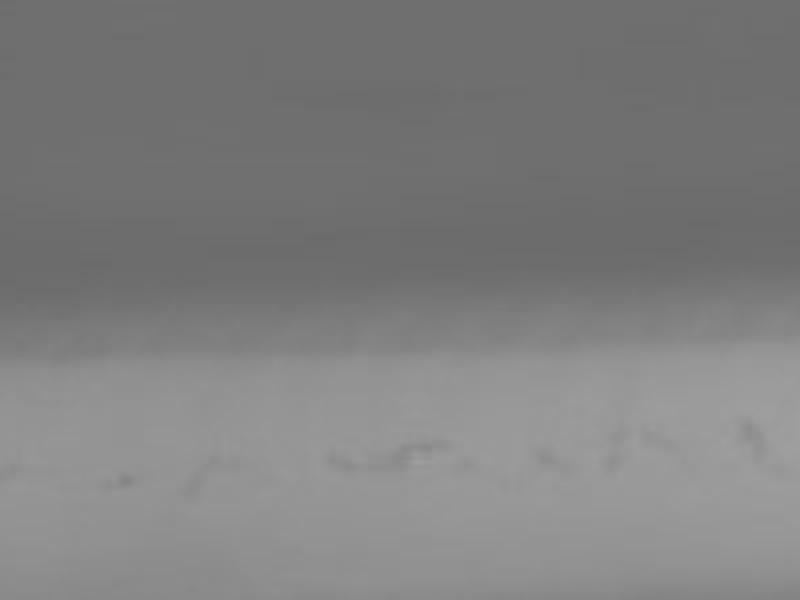defect: (734, 416, 764, 459), (383, 441, 414, 476), (643, 428, 678, 453), (323, 445, 355, 470), (418, 437, 453, 457), (532, 445, 561, 469), (607, 421, 629, 448), (181, 475, 205, 499), (105, 471, 133, 490), (602, 451, 626, 473), (203, 454, 222, 472), (458, 454, 475, 470)
